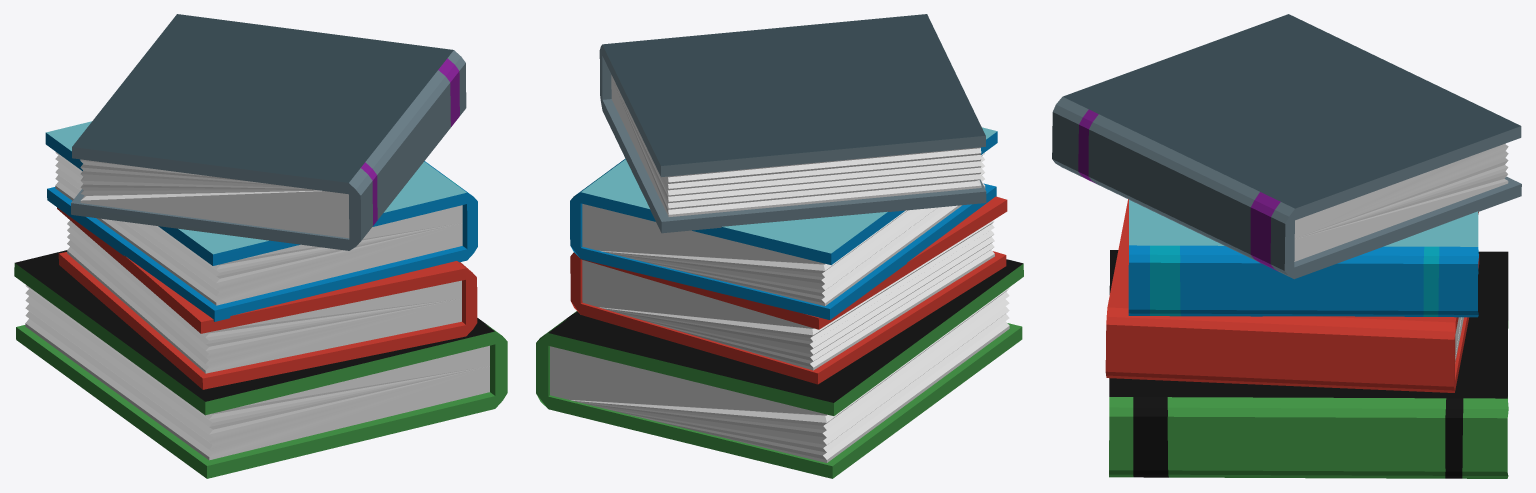
3 views of the same model, side by side, from view 1: azimuth 30°, elevation 25°; view 2: azimuth 150°, elevation 25°; view 3: azimuth 270°, elevation 25° (orthographic). The views are drawn at different scales.
Visible parts, largest first — view 1: node_MeshObject-725909632-PolyPaper17; view 2: node_MeshObject-725909632-PolyPaper17; view 3: node_MeshObject-725909632-PolyPaper17.
Part boxes in pixels (x1,y1,x2,y2): node_MeshObject-725909632-PolyPaper17: [14, 14, 507, 478]; node_MeshObject-725909632-PolyPaper17: [536, 14, 1023, 478]; node_MeshObject-725909632-PolyPaper17: [1052, 14, 1521, 478].
Bounding box in the file's own units: 0.8628 × 0.5972 × 0.8581.
